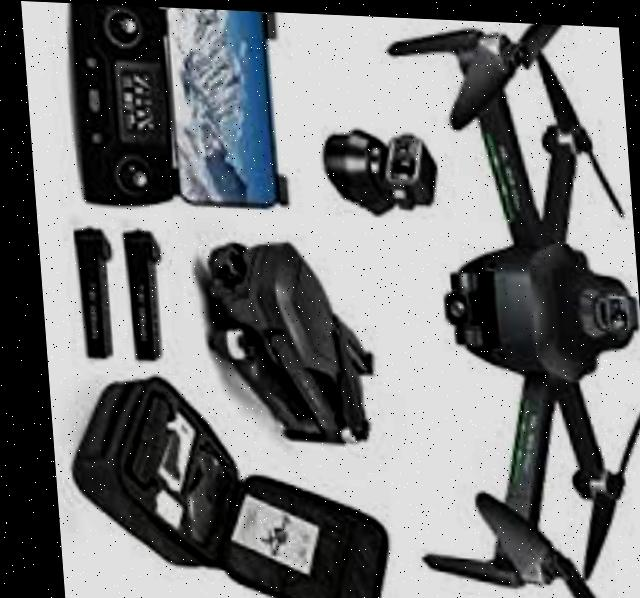drone: (371, 13, 640, 598)
